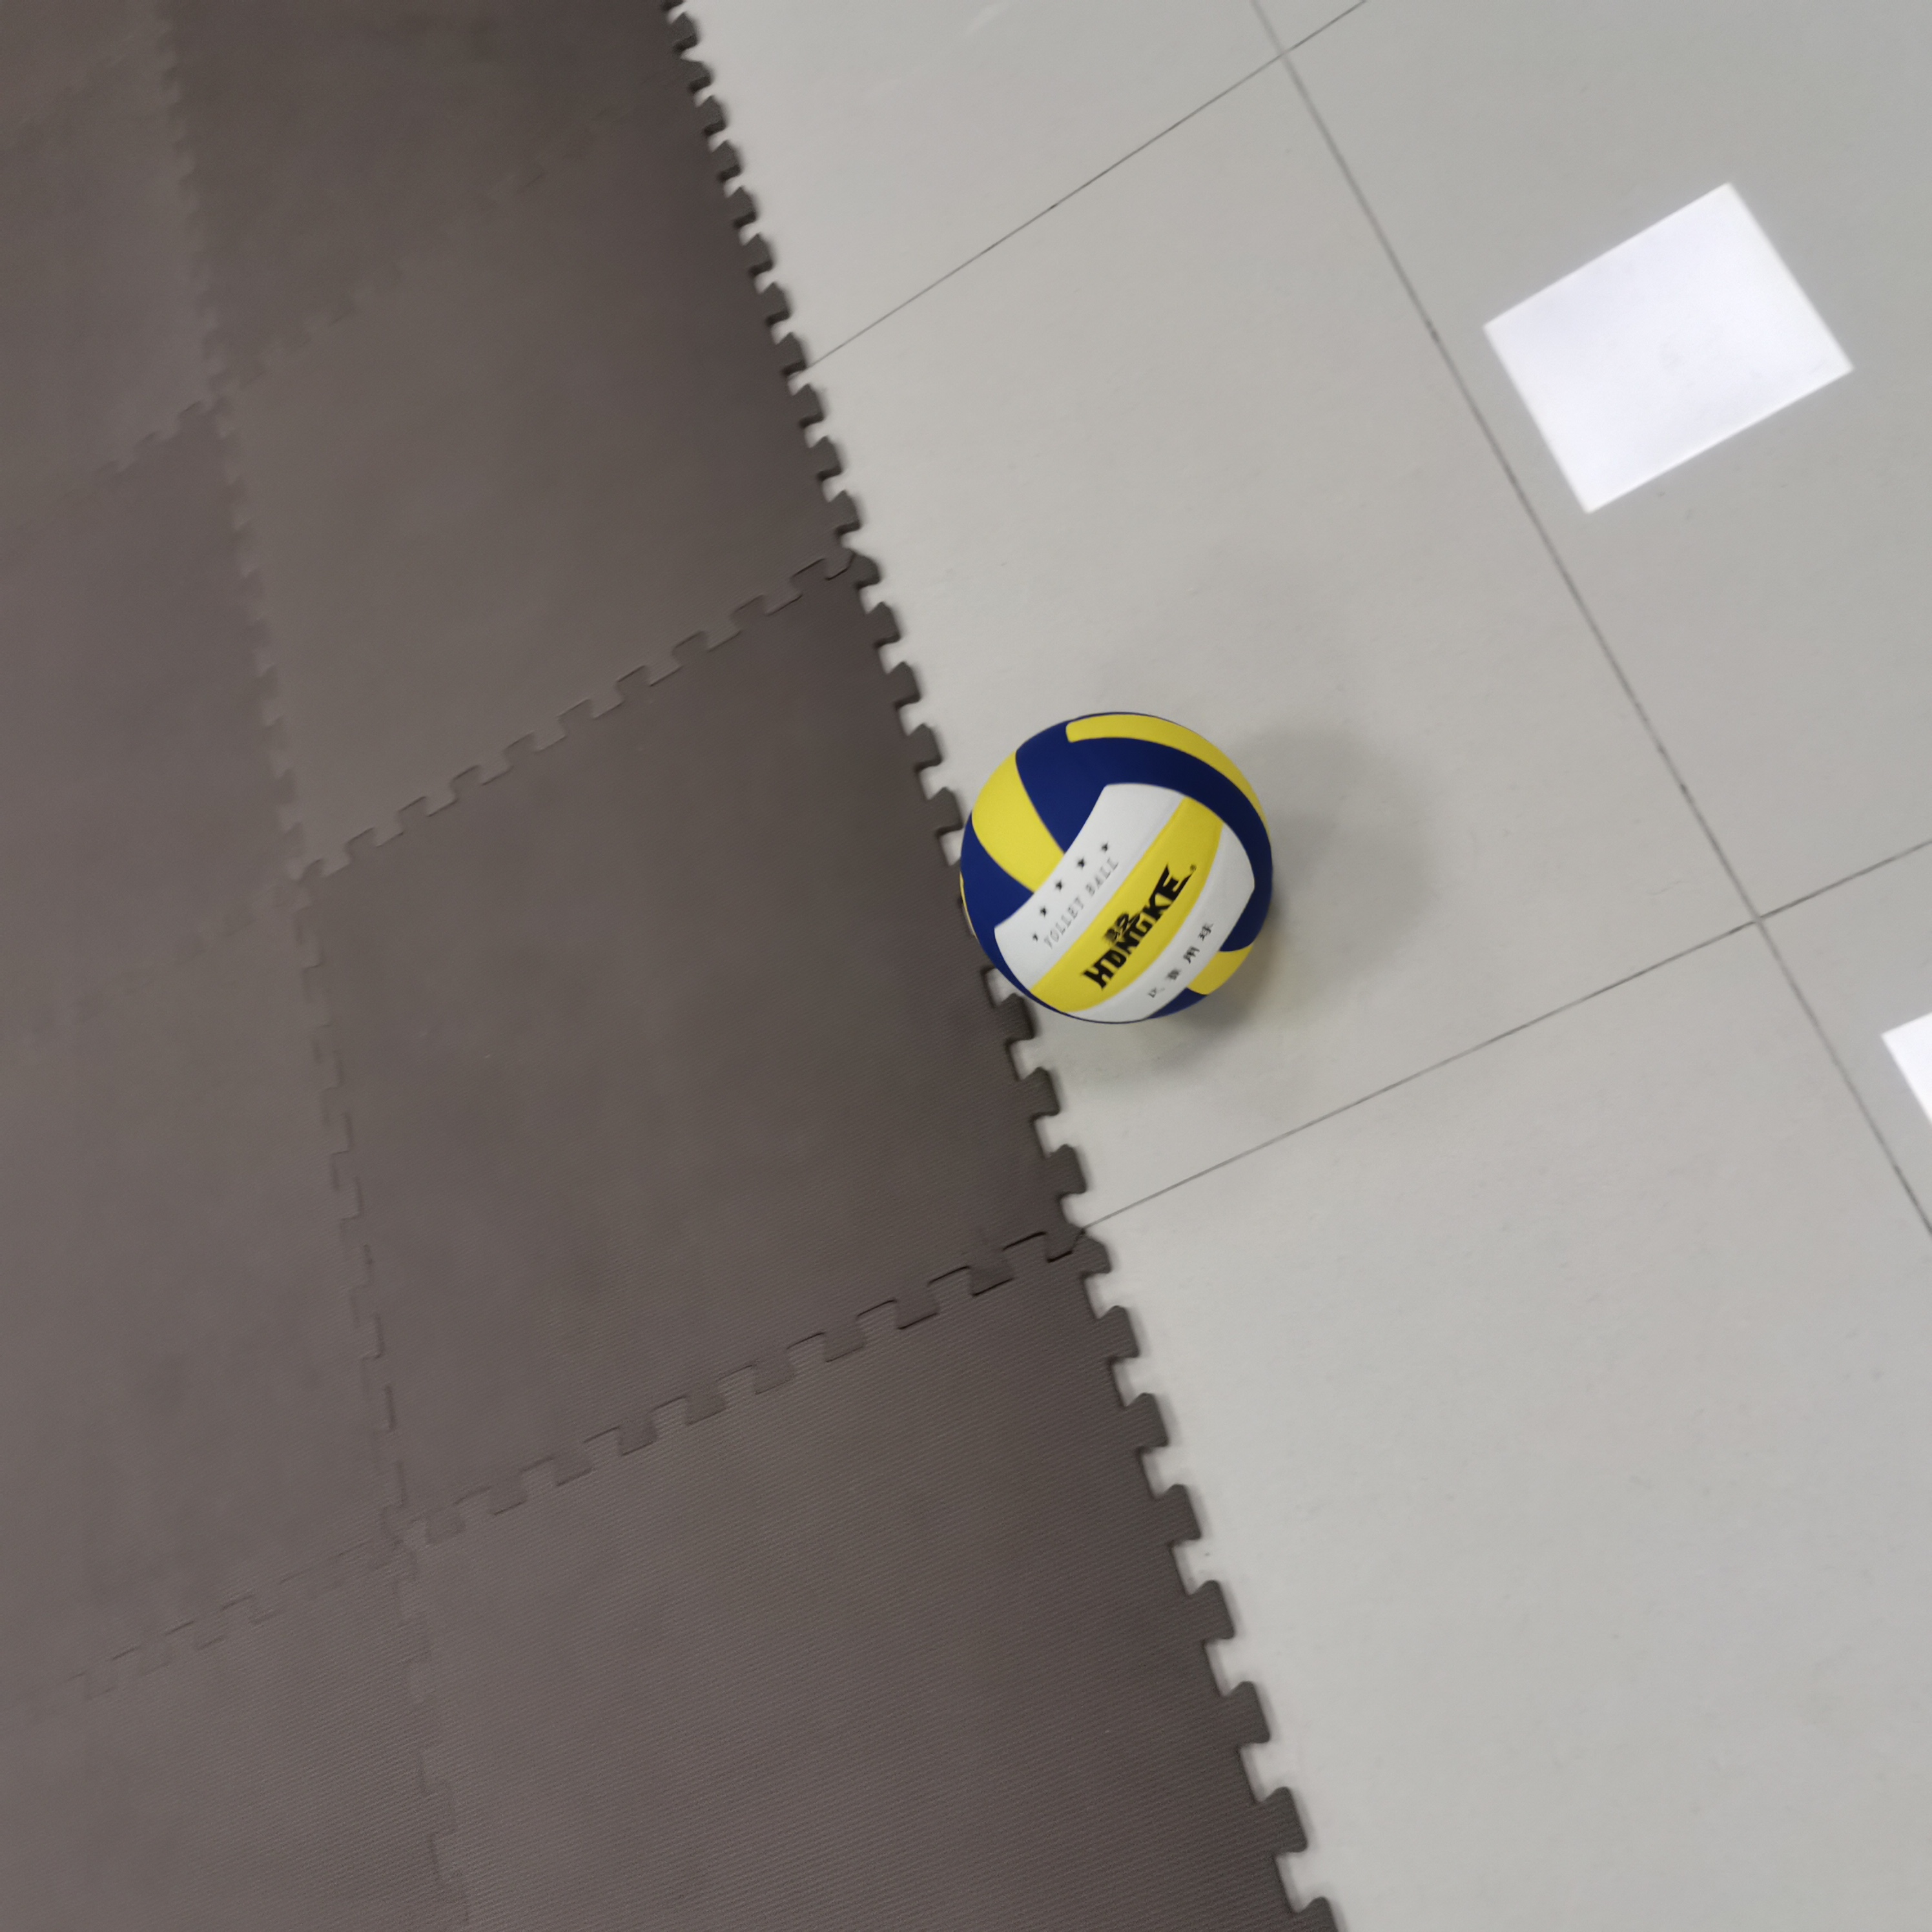volleyball: (950, 704, 1279, 1031)
